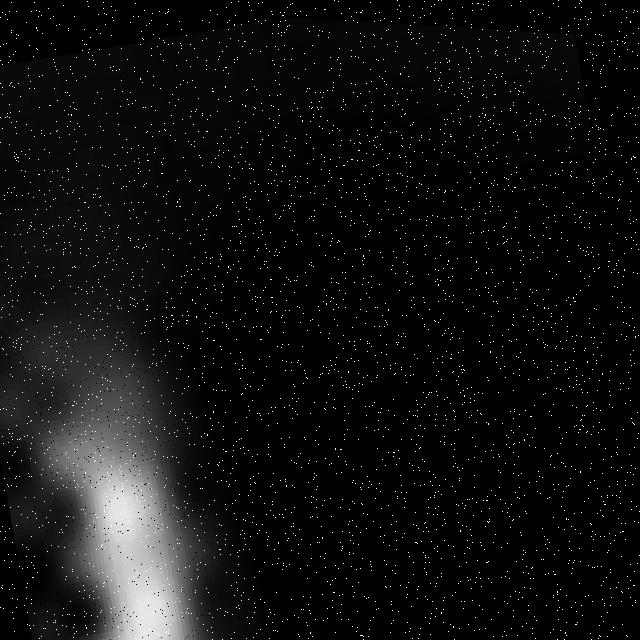person: (1, 243, 284, 640)
